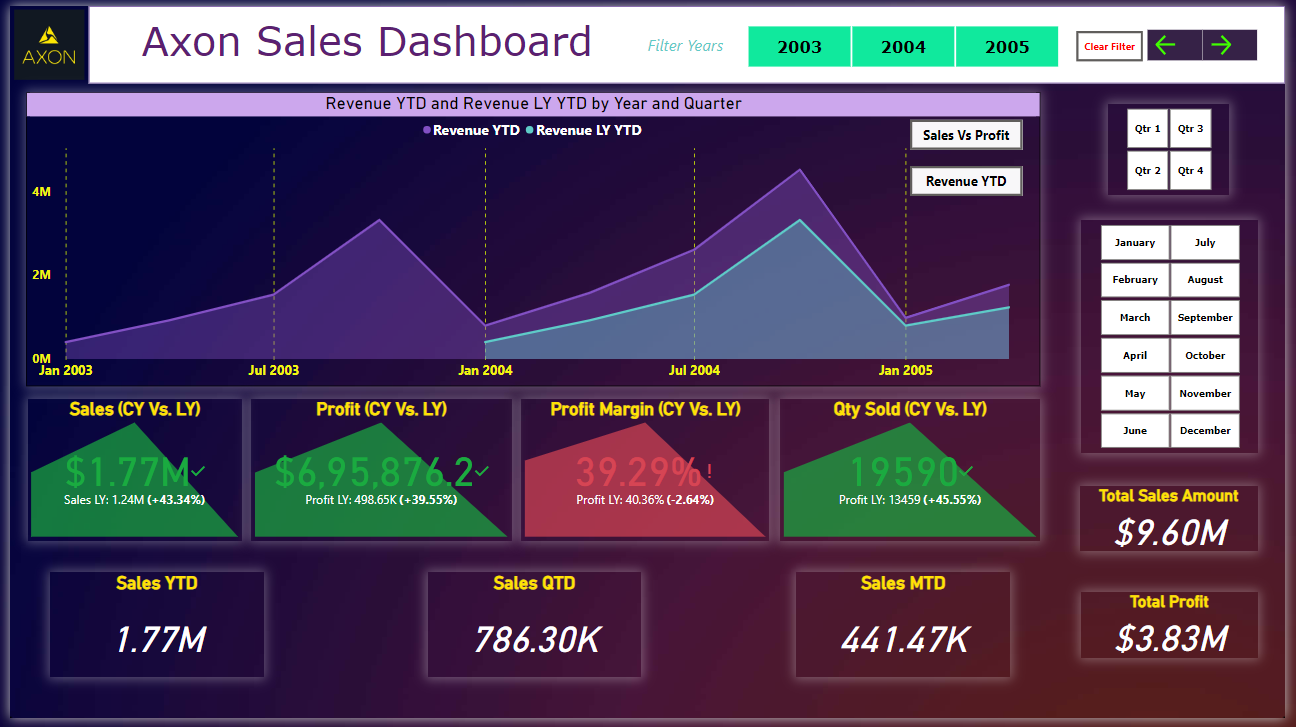

Layout of this report page (visuals, bound fields, positions):
{"tool":"powerbi","page":{"name":"Sales Vs Revenue","canvas":[1700,950],"ordinal":1},"visuals":[{"type":"slicer","title":"Quarter","fields":{"Values":["DATES.Date.Variation.Date Hierarchy.Quarter"]},"box":[1464,130.5,162.3,122.5],"z":1000},{"type":"slicer","title":"Quarter","fields":{"Values":["DATES.Date.Variation.Date Hierarchy.Month"]},"box":[1428,285.3,235,311.2],"z":2000},{"type":"card","title":"Total Sales Amount","fields":{"Values":["Sum(classicmodels orderdetails.Order_Booking_Value)"]},"box":[1426.4,640.3,236.7,87.5],"z":3000},{"type":"card","title":"Total Profit","fields":{"Values":["Base_Measures.Total Profit"]},"box":[1428,781.3,235,87.5],"z":4000},{"type":"shape","box":[104.8,0,1595.2,103.2],"z":5000},{"type":"textbox","box":[114.5,8.1,722.6,79],"z":6000},{"type":"slicer","title":"Year","fields":{"Values":["DATES.Date.Variation.Date Hierarchy.Year"]},"box":[958,19.5,463.6,68.1],"z":7000},{"type":"image","box":[0,0,104.8,103.2],"z":8000},{"type":"actionButton","box":[1590.1,32.4,72.9,40.5],"z":9000},{"type":"actionButton","box":[1421.5,34,89.1,40.5],"z":10000},{"type":"textbox","box":[837,31.8,127.3,44.6],"z":11000},{"type":"actionButton","box":[1517.2,32.4,72.9,40.5],"z":12000},{"type":"kpi","title":"Sales (CY Vs. LY)","fields":{"Indicator":["Base_Measures.Total_Sales"],"TrendLine":["DATES.Date.Variation.Date Hierarchy.Year"],"Goal":["Time Intelligence Calc.Last_Year_Sales"]},"box":[23.1,523.4,285.8,189.5],"z":13000},{"type":"kpi","title":"Profit (CY Vs. LY)","fields":{"Goal":["Time Intelligence Calc.Profit LY"],"Indicator":["Base_Measures.Total Profit"],"TrendLine":["DATES.Date.Variation.Date Hierarchy.Year"]},"box":[321.1,523.4,346.8,189.5],"z":14000},{"type":"kpi","title":"Profit Margin (CY Vs. LY)","fields":{"TrendLine":["DATES.Date.Variation.Date Hierarchy.Year"],"Indicator":["Base_Measures.Profit_Margin"],"Goal":["Time Intelligence Calc.Profit % LY"]},"box":[682.4,523.4,330.8,189.5],"z":15000},{"type":"kpi","title":"Qty Sold (CY Vs. LY)","fields":{"TrendLine":["DATES.Date.Variation.Date Hierarchy.Year"],"Indicator":["Base_Measures.Sales_Qty"],"Goal":["Time Intelligence Calc.Qty Sold LY"]},"box":[1026,523.4,346.8,189.5],"z":16000},{"type":"card","title":"Sales YTD","fields":{"Values":["Key Calc.Revenue YTD"]},"box":[52.5,754.3,284.8,140],"z":17000},{"type":"areaChart","fields":{"Y":["Key Calc.Revenue YTD","Key Calc.Revenue LY YTD"],"Category":["DATES.Date.Variation.Date Hierarchy.Year","DATES.Date.Variation.Date Hierarchy.Quarter"]},"box":[21.7,115,1351.7,391.7],"z":18000},{"type":"actionButton","box":[1200,151.7,150,40],"z":19000},{"type":"actionButton","box":[1200,213.3,150,40],"z":20000},{"type":"card","title":"Sales QTD","fields":{"Values":["Key Calc.Revenue QTD"]},"box":[557,754.3,284.8,140],"z":21000},{"type":"card","title":"Sales MTD","fields":{"Values":["Key Calc.Revenue MTD"]},"box":[1048.7,754.3,284.8,140],"z":22000}]}

Visuals, with their boxes in screenshot pixels (x1, y1, x2, y2), scaled from the page's 1700x950 canvas onto the 1296x727 screenshot:
"Quarter" slicer: (x1=1116, y1=100, x2=1240, y2=194)
"Quarter" slicer: (x1=1089, y1=218, x2=1268, y2=456)
"Total Sales Amount" card: (x1=1087, y1=490, x2=1268, y2=557)
"Total Profit" card: (x1=1089, y1=598, x2=1268, y2=665)
shape: (x1=80, y1=0, x2=1295, y2=79)
textbox: (x1=87, y1=6, x2=638, y2=67)
"Year" slicer: (x1=730, y1=15, x2=1084, y2=67)
image: (x1=0, y1=0, x2=80, y2=79)
actionButton: (x1=1212, y1=25, x2=1268, y2=56)
actionButton: (x1=1084, y1=26, x2=1152, y2=57)
textbox: (x1=638, y1=24, x2=735, y2=58)
actionButton: (x1=1157, y1=25, x2=1212, y2=56)
"Sales (CY Vs. LY)" kpi: (x1=18, y1=401, x2=235, y2=546)
"Profit (CY Vs. LY)" kpi: (x1=245, y1=401, x2=509, y2=546)
"Profit Margin (CY Vs. LY)" kpi: (x1=520, y1=401, x2=772, y2=546)
"Qty Sold (CY Vs. LY)" kpi: (x1=782, y1=401, x2=1047, y2=546)
"Sales YTD" card: (x1=40, y1=577, x2=257, y2=684)
areaChart - Key Calc.Revenue YTD x Key Calc.Revenue LY YTD: (x1=17, y1=88, x2=1047, y2=388)
actionButton: (x1=915, y1=116, x2=1029, y2=147)
actionButton: (x1=915, y1=163, x2=1029, y2=194)
"Sales QTD" card: (x1=425, y1=577, x2=642, y2=684)
"Sales MTD" card: (x1=799, y1=577, x2=1017, y2=684)
